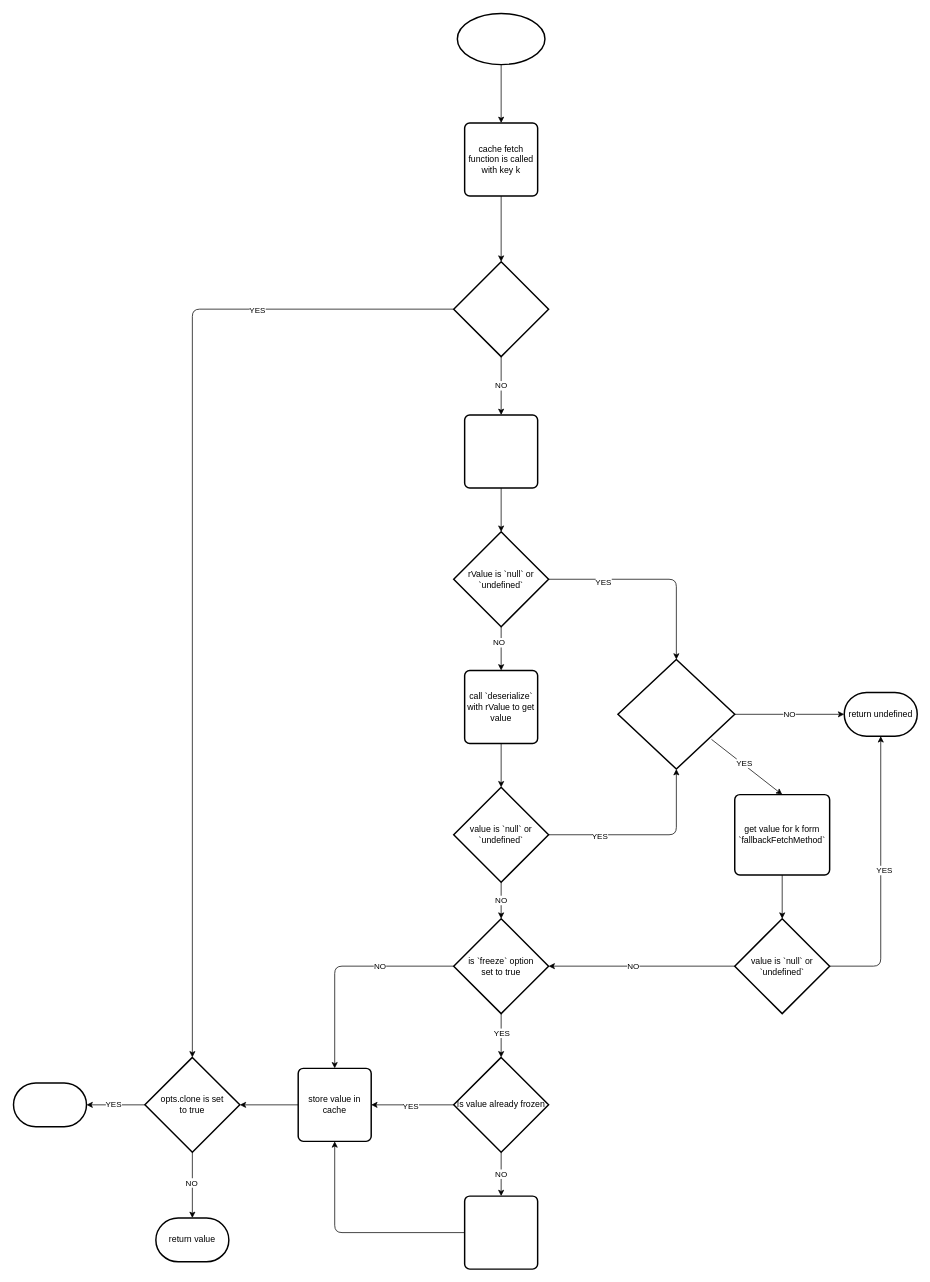
Some shapes in this 930 by 1282 pixel diagram are drawn without their labels. The shapes that lost their labels are listed below. From the top down, each one's box as (x1, y1, x2, y2) in pixels, then its label:
(456, 12, 545, 65): get function is called with key k and opts
(453, 261, 549, 357): Is value for k already in cache
(464, 414, 538, 488): fetch rValue from Redis for k based on redisGetOptions
(617, 658, 735, 769): `fallbackFetchMethod` was provided
(12, 1082, 87, 1127): return clone of value
(464, 1195, 538, 1269): (deep-)freeze value
